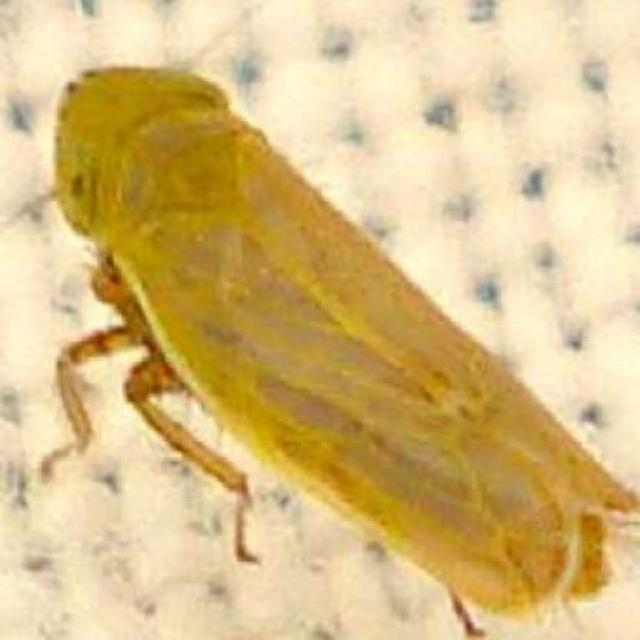green-leafhopper: (49, 66, 625, 602)
